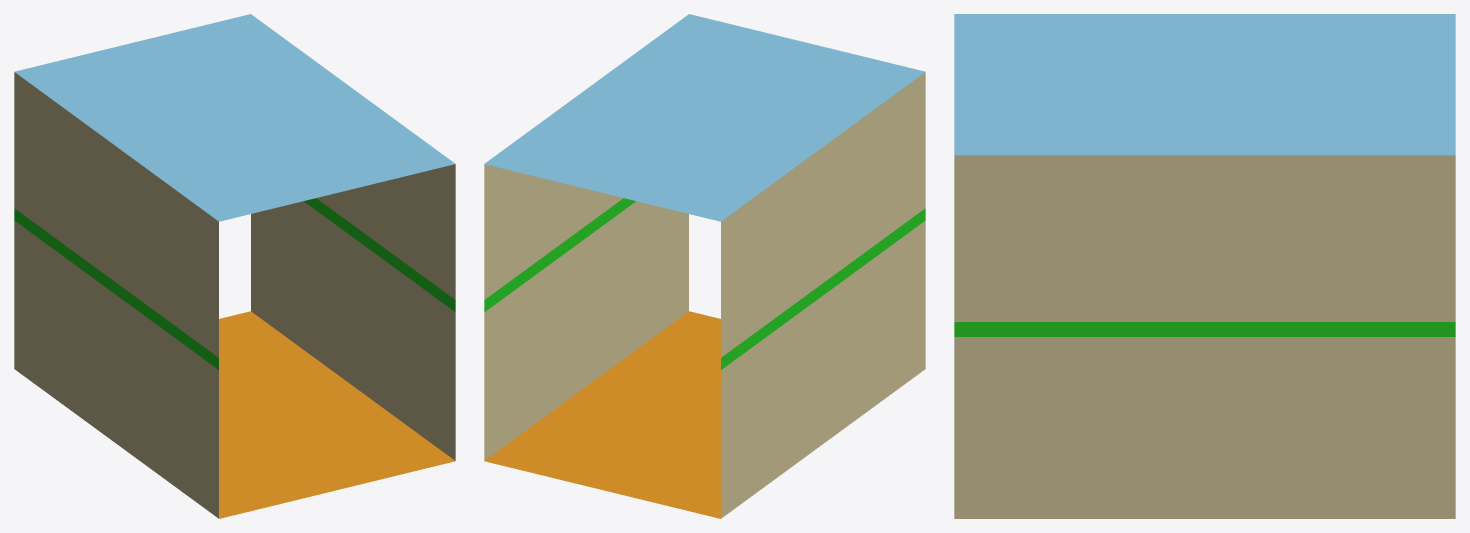
The model's file is strait.fbx.
The picture shows the model from 3 angles, left to right: view 1: azimuth 30°, elevation 25°; view 2: azimuth 150°, elevation 25°; view 3: azimuth 270°, elevation 25°; orthographic projection. The views are drawn at different scales.
Parts seen in each view (by area): view 1: strait; view 2: strait; view 3: strait.
Boxes of the visible parts, x1,y1,x2,y2 form: strait: (14, 14, 455, 518); strait: (484, 14, 925, 518); strait: (954, 14, 1455, 518).
Size of the model in its own units: 200 by 240 by 300.
